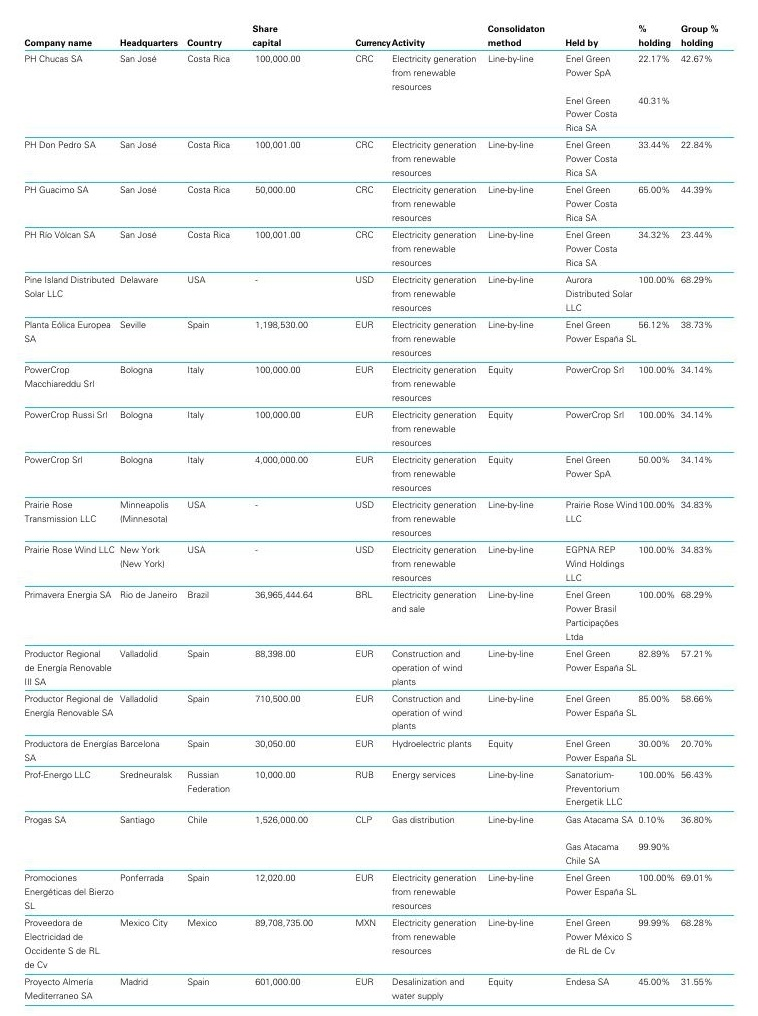table: (0, 0, 758, 1016)
